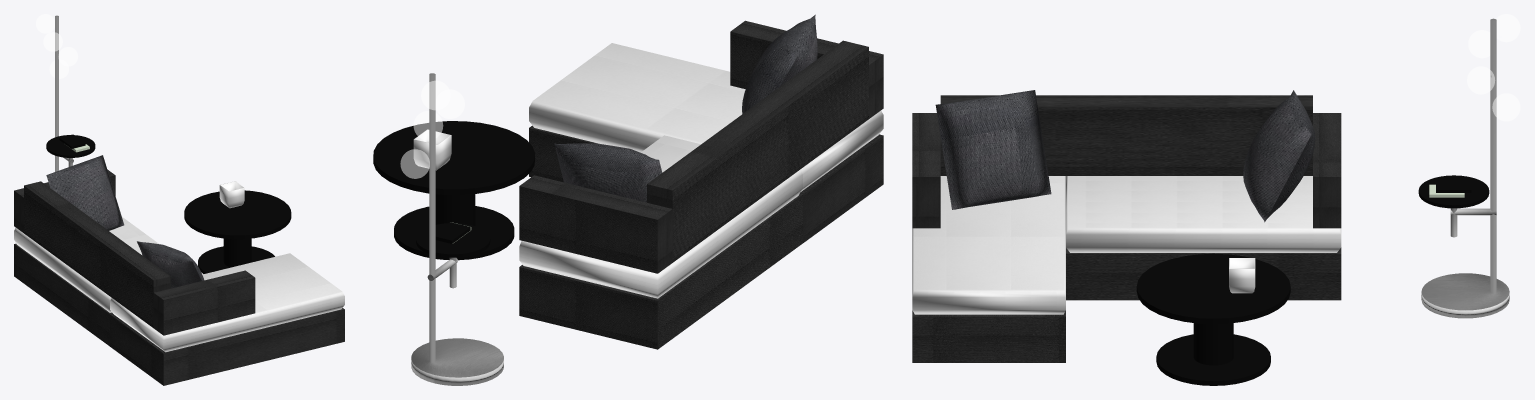
File: dining-furniture.glb
The picture shows the model from 3 angles, left to right: view 1: azimuth 30°, elevation 25°; view 2: azimuth 150°, elevation 25°; view 3: azimuth 270°, elevation 25°; orthographic projection. The views are drawn at different scales.
Visible parts, largest first — view 1: Cube.006, Cube, Cube.002, Cylinder.006, Cube.004, Cube.001, Cylinder.001, Cube.003, Cylinder, Cylinder.005, Cube.009, Cylinder.002 (+4 smaller); view 2: Cube.006, Cube.002, Cube.001, Cylinder.006, Cube.005, Cube.003, Cube, Cylinder.002, Cylinder.001, Cylinder, Cube.004, Cylinder.005 (+6 smaller); view 3: Cube.006, Cube.003, Cube.002, Cylinder.006, Cylinder, Cube, Cube.001, Cylinder.001, Cylinder.002, Cube.005, Cube.004, Cylinder.005 (+5 smaller).
Boxes of the visible parts, left/top/right/bottom form: Cube.006: left=24, top=181, right=170, bottom=327; Cube: left=110, top=308, right=344, bottom=385; Cube.002: left=110, top=253, right=344, bottom=352; Cylinder.006: left=184, top=190, right=291, bottom=273; Cube.004: left=153, top=270, right=255, bottom=335; Cube.001: left=14, top=243, right=112, bottom=346; Cylinder.001: left=46, top=155, right=124, bottom=230; Cube.003: left=14, top=217, right=159, bottom=312; Cylinder: left=137, top=241, right=204, bottom=288; Cylinder.005: left=46, top=135, right=95, bottom=157; Cube.009: left=219, top=181, right=244, bottom=208; Cylinder.002: left=55, top=15, right=58, bottom=171; Cube.006: left=647, top=40, right=868, bottom=262; Cube.002: left=529, top=43, right=883, bottom=191; Cube.001: left=519, top=194, right=802, bottom=349; Cylinder.006: left=373, top=121, right=534, bottom=260; Cube.005: left=519, top=175, right=672, bottom=273; Cube.003: left=519, top=135, right=802, bottom=298; Cube: left=529, top=125, right=883, bottom=242; Cylinder.002: left=411, top=73, right=503, bottom=385; Cylinder.001: left=554, top=143, right=662, bottom=202; Cylinder: left=742, top=14, right=817, bottom=113; Cube.004: left=730, top=20, right=883, bottom=118; Cylinder.005: left=416, top=223, right=490, bottom=257; Cube.006: left=940, top=95, right=1312, bottom=175; Cube.003: left=1066, top=176, right=1341, bottom=252; Cube.002: left=912, top=176, right=1065, bottom=314; Cylinder.006: left=1136, top=253, right=1290, bottom=385; Cylinder: left=935, top=90, right=1051, bottom=209; Cube: left=912, top=310, right=1065, bottom=362; Cube.001: left=1066, top=247, right=1341, bottom=300; Cylinder.001: left=1243, top=90, right=1315, bottom=222; Cylinder.002: left=1421, top=18, right=1509, bottom=318; Cube.005: left=1313, top=113, right=1341, bottom=228; Cube.004: left=912, top=113, right=940, bottom=228; Cylinder.005: left=1418, top=175, right=1489, bottom=208.
Size of the model in its own units: 2.12 by 1.78 by 3.45.
Materials: 8 (7 with a texture image).
